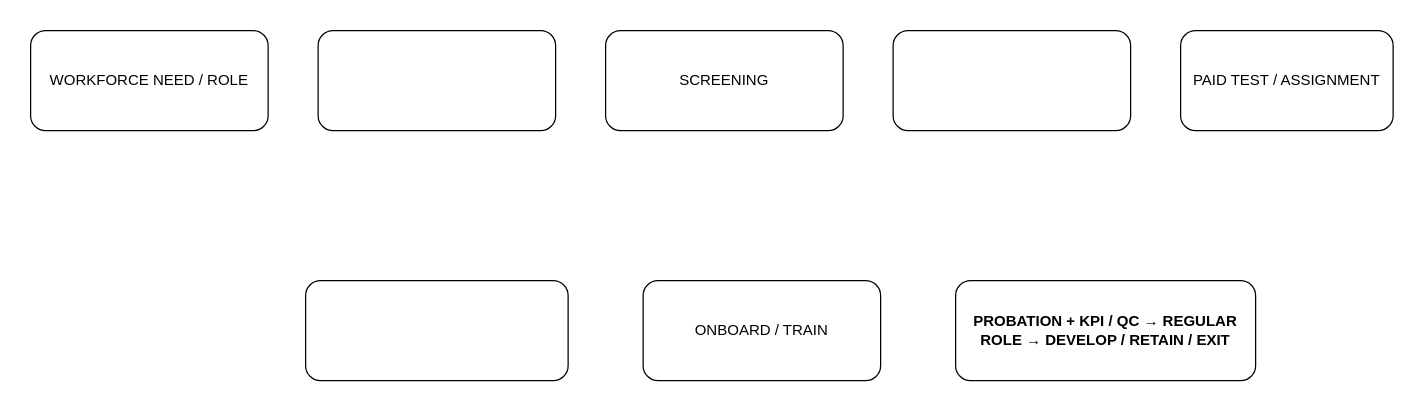
This 1415x403 diagram has some shape labels left out. Each missing label, with the centre of its shape:
INTERVIEW: the point at 1011,80
SELECT / OFFER: the point at 436,330
SOURCE CANDIDATES: the point at 436,80
